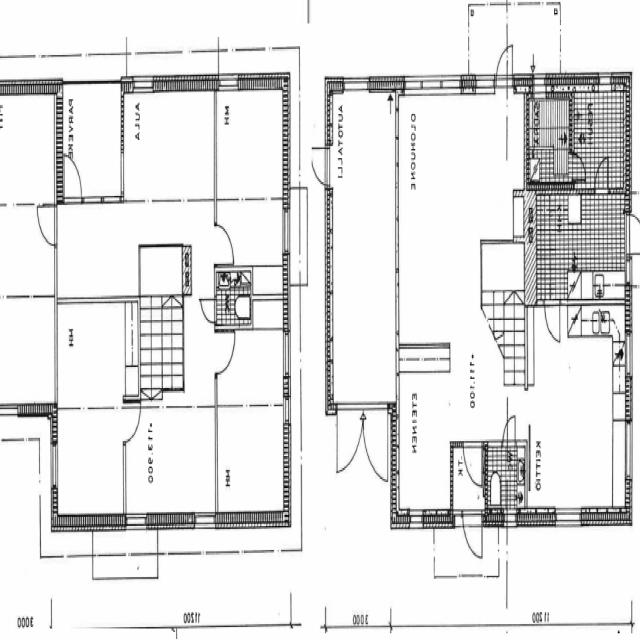door: (336, 396, 362, 474), (362, 396, 388, 474), (463, 508, 482, 571), (308, 146, 334, 186), (496, 33, 513, 92), (464, 441, 482, 491), (215, 333, 236, 373), (216, 224, 236, 263), (64, 159, 81, 204), (37, 208, 57, 246), (122, 404, 142, 440), (545, 299, 560, 341), (625, 214, 640, 255), (502, 411, 516, 448), (569, 153, 587, 181), (595, 159, 608, 195), (204, 297, 218, 323)
